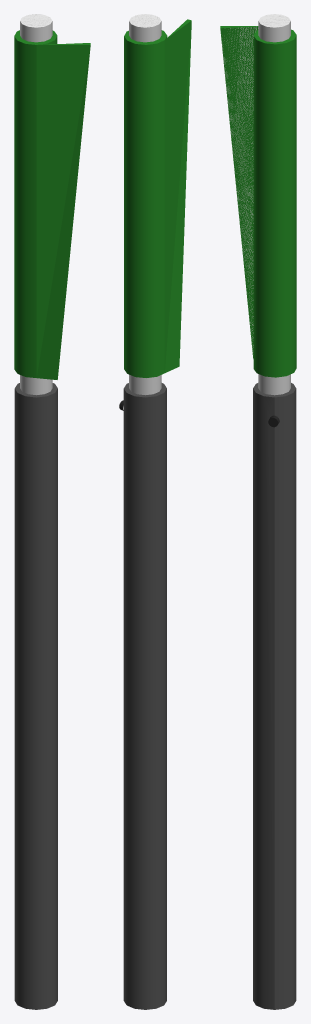
The model's file is kspflag.dae.
3 views of the same model, side by side, from view 1: azimuth 90°, elevation 25°; view 2: azimuth 150°, elevation 25°; view 3: azimuth 270°, elevation 25° (orthographic).
Visible parts, largest first — view 1: SketchUp (×6); view 2: SketchUp (×6); view 3: SketchUp (×5).
Part boxes in pixels (x1,y1,x2,y2): SketchUp (×6): [14, 14, 90, 1009]; SketchUp (×6): [123, 14, 191, 1009]; SketchUp (×5): [220, 14, 296, 1009].
Bounding box in the file's own units: 4.02 × 5.57 × 78.74.
